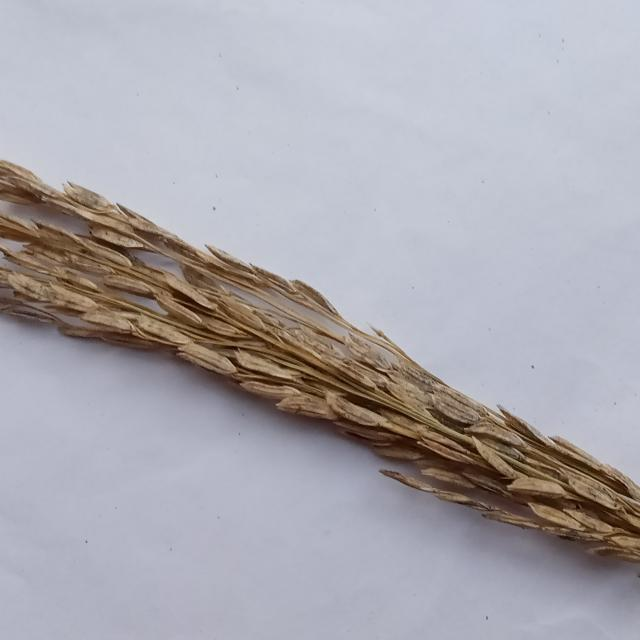Neck_Blast: (0, 159, 640, 569)
